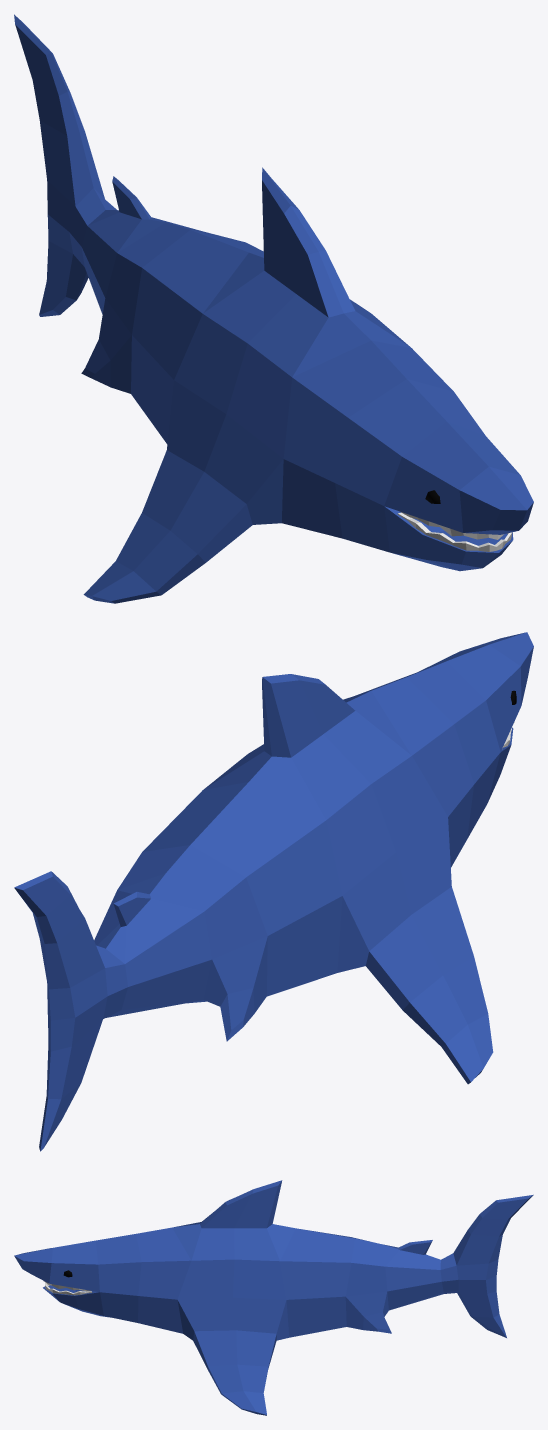
File: shark.glb
The picture shows the model from 3 angles, top to bottom: view 1: azimuth 30°, elevation 25°; view 2: azimuth 150°, elevation 25°; view 3: azimuth 270°, elevation 25°; orthographic projection. The views are drawn at different scales.
Parts seen in each view (by area): view 1: Shark; view 2: Shark; view 3: Shark.
Boxes of the visible parts, bbox=[...] form: Shark: bbox=[14, 14, 533, 603]; Shark: bbox=[14, 632, 533, 1151]; Shark: bbox=[14, 1180, 533, 1415].
Bounding box in the file's own units: 4.36 × 3.96 × 9.89.
